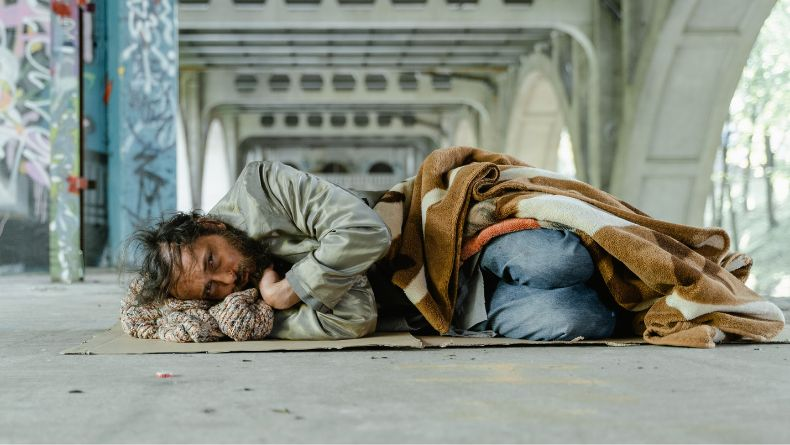gelandangan: (112, 139, 786, 350)
